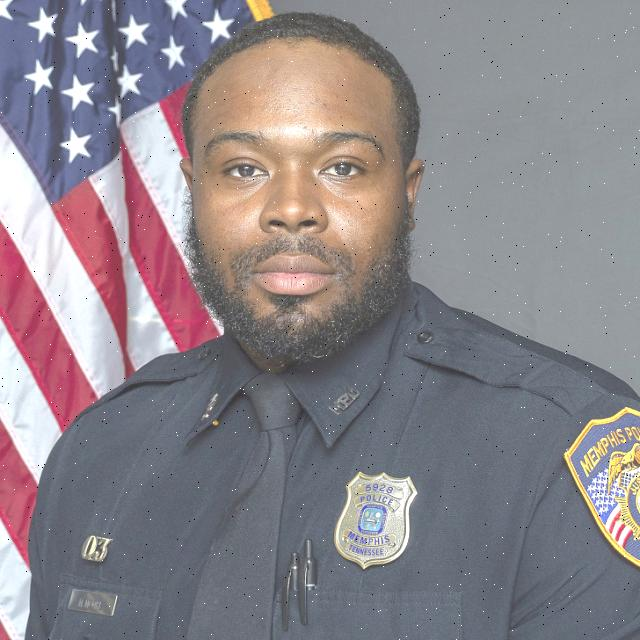police: (33, 14, 640, 640)
